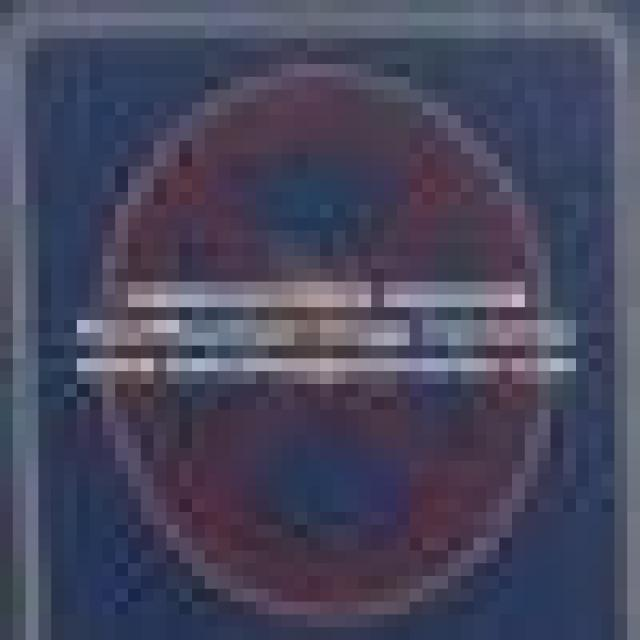NO_STOPPING_OR_STANDING: (77, 51, 563, 614)
